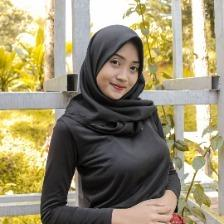Non Syar-i: (62, 20, 160, 137)
